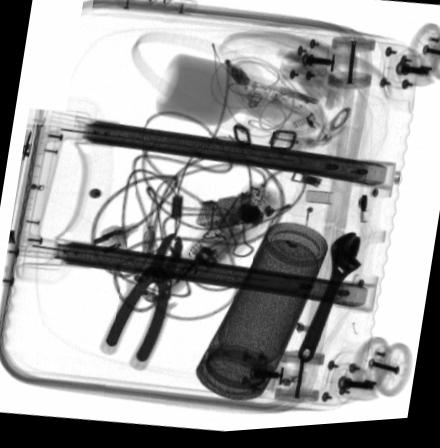Pliers: (100, 233, 183, 372)
Wrench: (298, 236, 363, 367)
